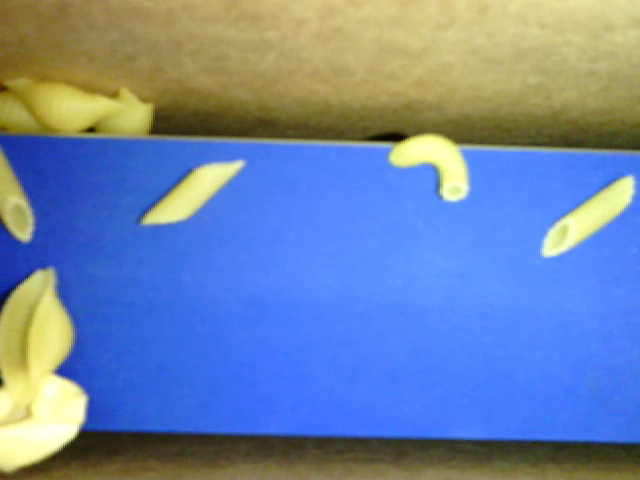penne: (541, 173, 632, 258), (139, 161, 244, 228), (1, 147, 37, 244)
shell: (1, 264, 77, 403), (1, 76, 127, 137), (93, 86, 156, 136), (1, 95, 55, 133)
tortellini: (1, 371, 89, 472)
